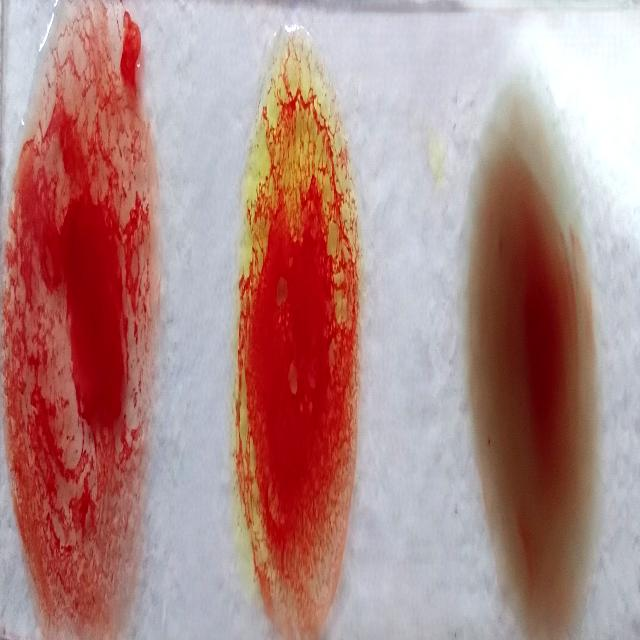B: (230, 41, 352, 640)
D: (10, 16, 144, 640)
